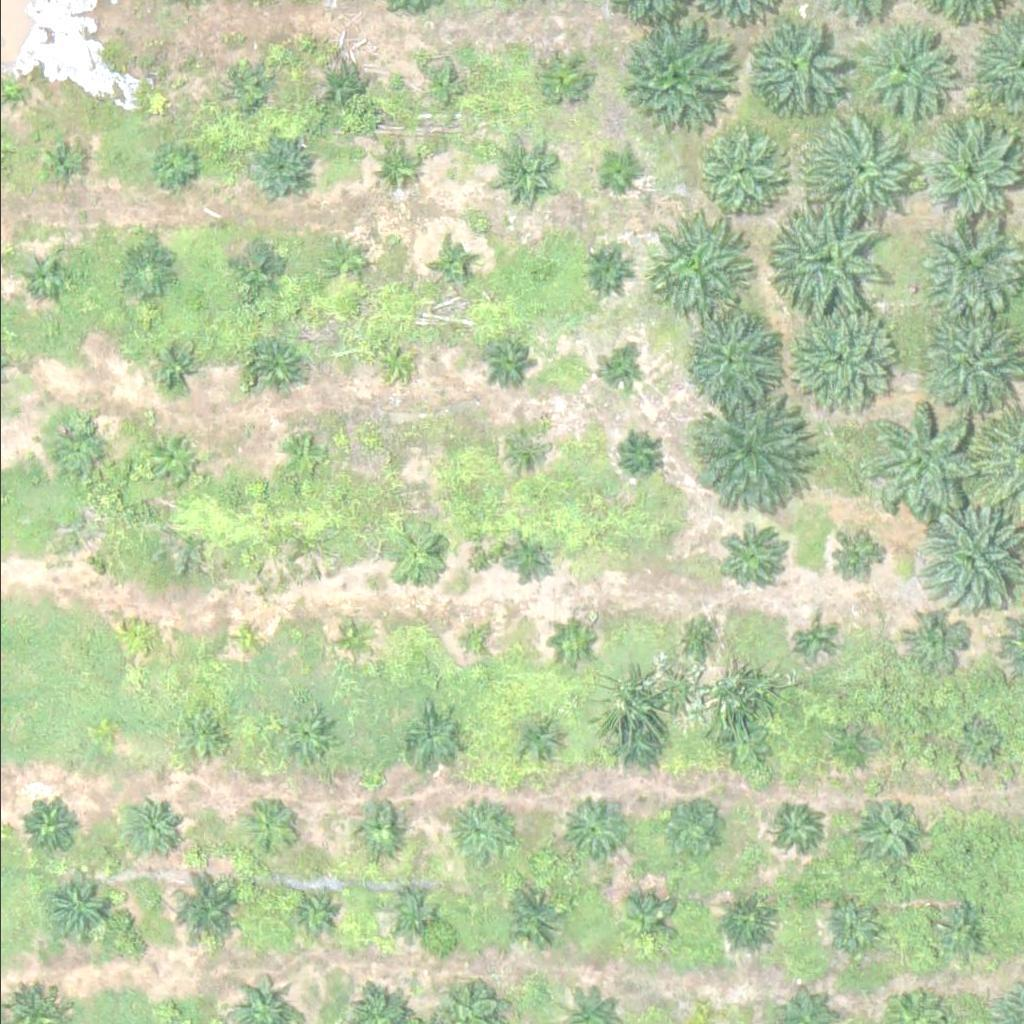Kelapa_Sawit: (763, 200, 889, 325), (797, 108, 923, 233), (683, 396, 808, 521), (613, 17, 727, 130), (868, 408, 981, 521), (782, 297, 895, 410), (908, 505, 1021, 617), (632, 206, 745, 318), (683, 307, 784, 407), (918, 313, 1019, 413), (919, 212, 1020, 312), (916, 122, 1017, 222), (689, 121, 790, 221), (853, 22, 954, 122), (745, 14, 845, 114), (161, 866, 249, 953), (652, 788, 728, 863), (43, 869, 118, 944), (717, 520, 792, 595), (237, 792, 300, 855), (444, 797, 507, 860), (120, 795, 183, 858), (484, 138, 547, 201), (530, 44, 593, 107), (46, 411, 109, 474), (401, 710, 464, 773), (248, 140, 311, 203), (271, 706, 334, 769), (601, 711, 664, 774), (902, 607, 965, 670), (717, 890, 780, 953), (927, 900, 990, 963), (413, 55, 476, 118), (560, 796, 623, 858), (17, 793, 80, 855), (500, 886, 563, 948), (244, 335, 307, 397), (143, 429, 206, 491), (858, 797, 921, 859), (383, 525, 446, 587), (121, 247, 172, 297), (509, 715, 560, 765), (239, 245, 290, 295), (317, 65, 368, 115), (824, 534, 875, 584), (715, 722, 766, 772), (374, 141, 425, 191), (223, 66, 274, 116), (150, 142, 201, 192), (150, 340, 201, 390), (18, 252, 69, 302), (351, 804, 401, 854), (621, 896, 671, 946), (582, 245, 632, 295), (484, 339, 534, 389), (183, 709, 233, 759), (769, 804, 819, 854), (828, 898, 878, 948), (505, 535, 555, 585), (280, 435, 330, 485), (320, 238, 370, 288), (587, 146, 637, 196), (34, 137, 84, 187), (289, 885, 340, 934), (552, 629, 590, 667), (624, 436, 662, 474), (961, 722, 999, 760), (835, 729, 873, 767), (451, 622, 489, 660), (332, 620, 370, 658), (225, 622, 263, 660), (125, 618, 163, 656), (378, 344, 416, 382), (433, 247, 471, 285), (598, 353, 636, 390), (393, 895, 431, 932), (500, 430, 538, 467), (371, 442, 409, 479), (73, 525, 111, 562), (791, 620, 828, 657), (681, 624, 718, 661), (948, 839, 973, 864), (2, 74, 27, 99)
